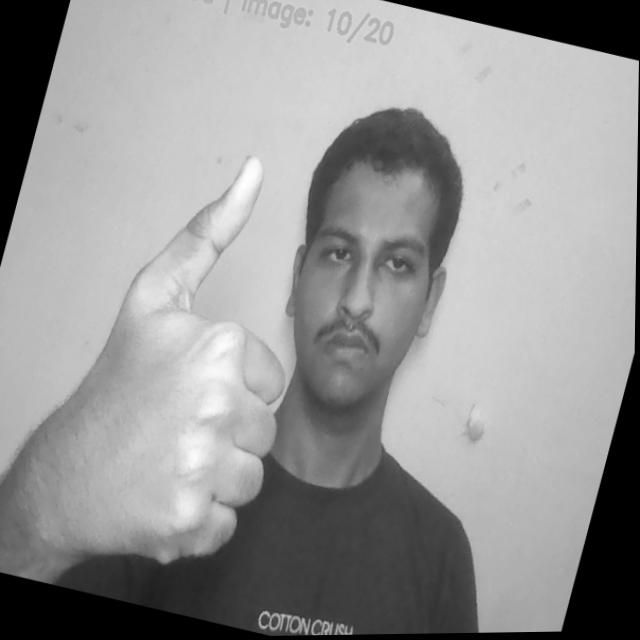Good: (48, 131, 344, 574)
